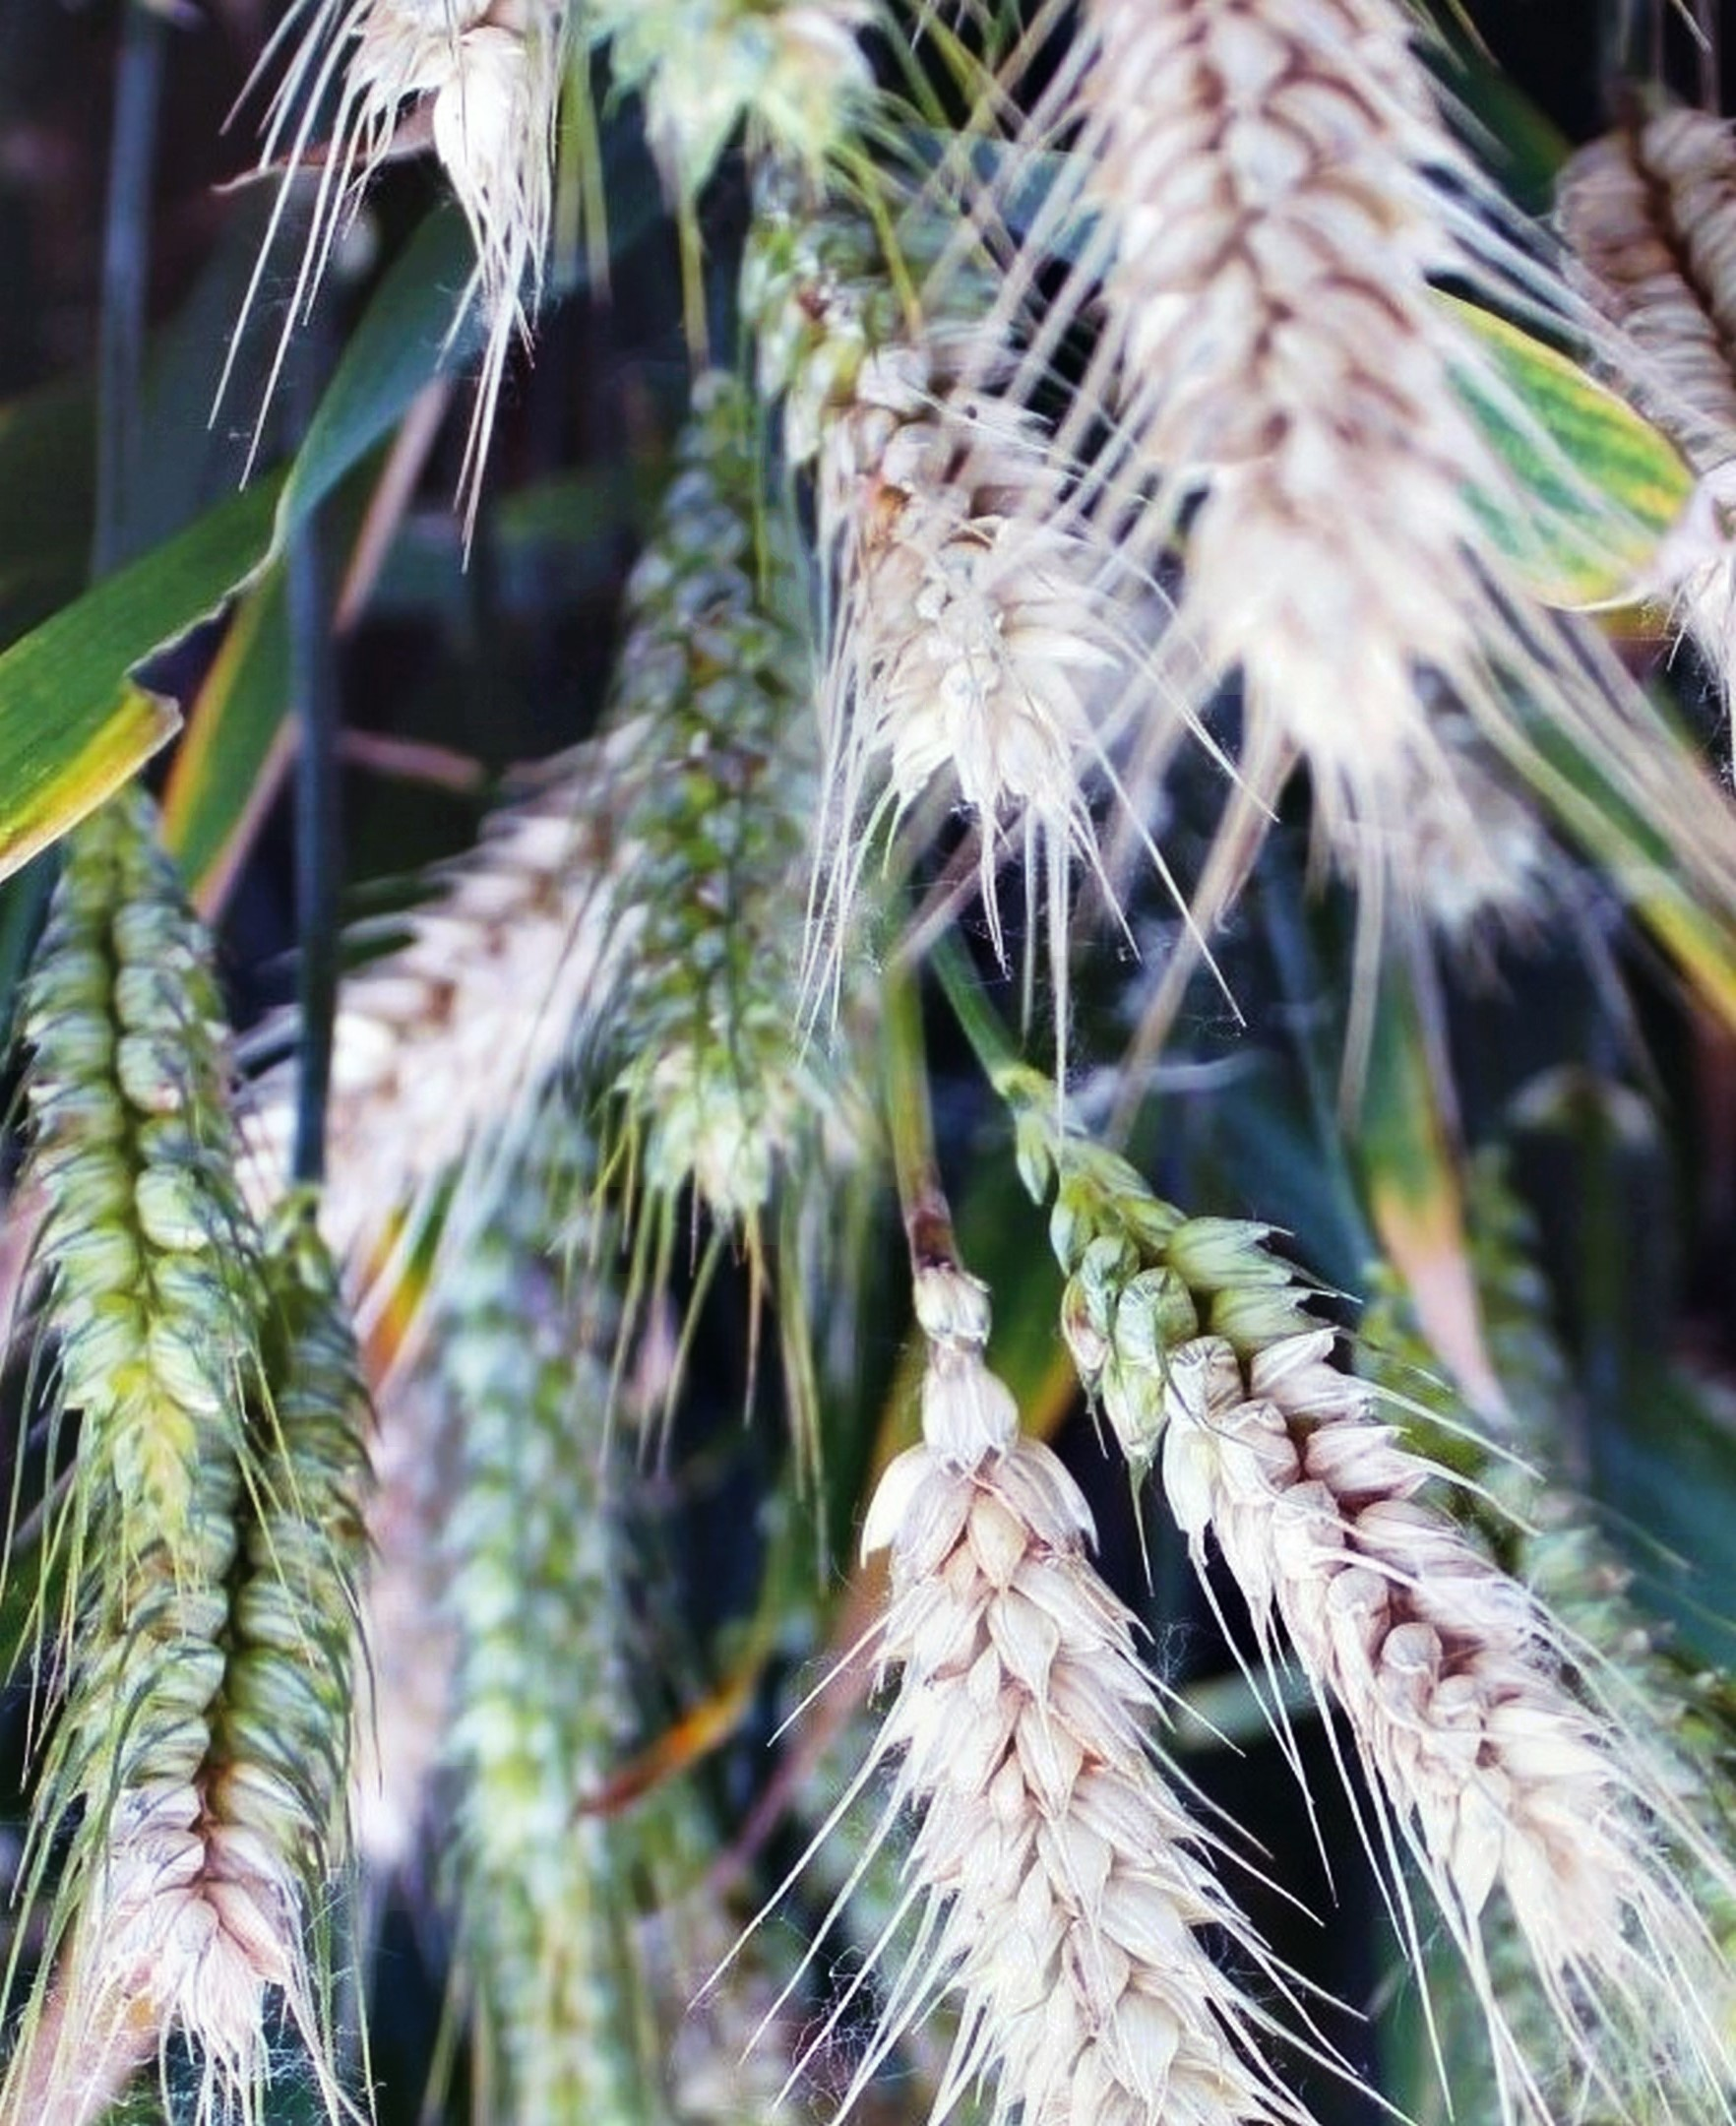Wheat scab: (1028, 1109, 1699, 1939), (67, 1248, 417, 2064)
